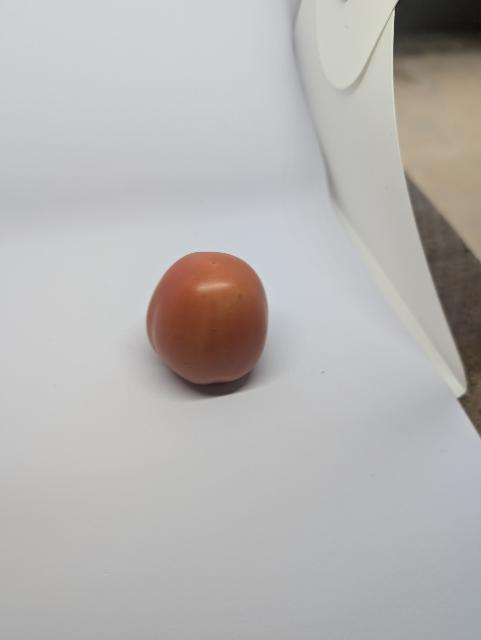red: (135, 238, 291, 397)
